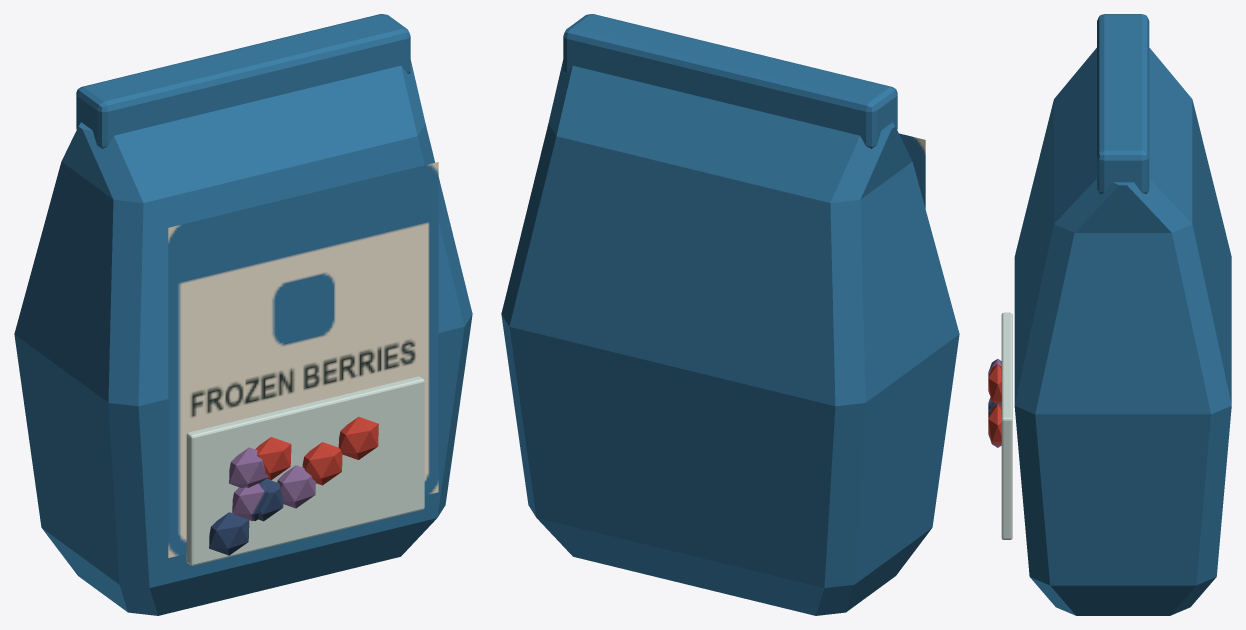
File: frozen_berries.fbx
3 renders of one model, left to right at view 1: azimuth 30°, elevation 25°; view 2: azimuth 150°, elevation 25°; view 3: azimuth 270°, elevation 25°, orthographic. The views are drawn at different scales.
Visible parts, largest first — view 1: frozen_berries; view 2: frozen_berries; view 3: frozen_berries.
Part boxes in pixels (<box>): frozen_berries: <box>14,14,472,615</box>; frozen_berries: <box>501,14,959,615</box>; frozen_berries: <box>988,14,1231,615</box>.
Bounding box in the file's own units: 21 × 27.67 × 13.01.
